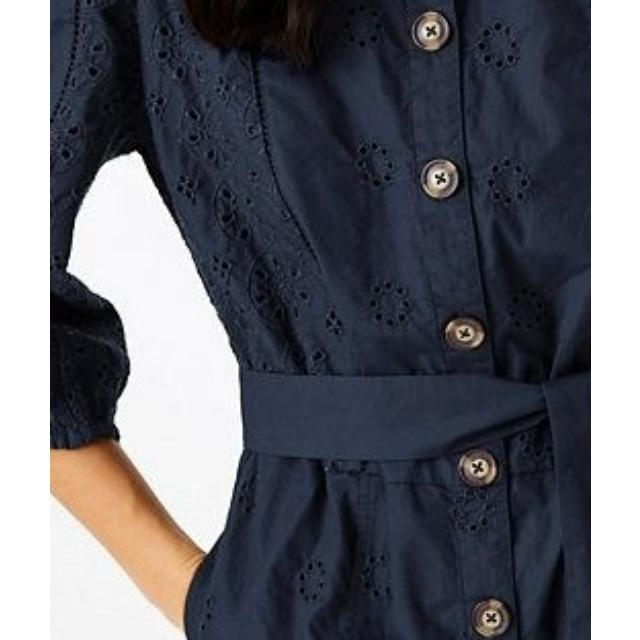cotton: (222, 42, 590, 640)
